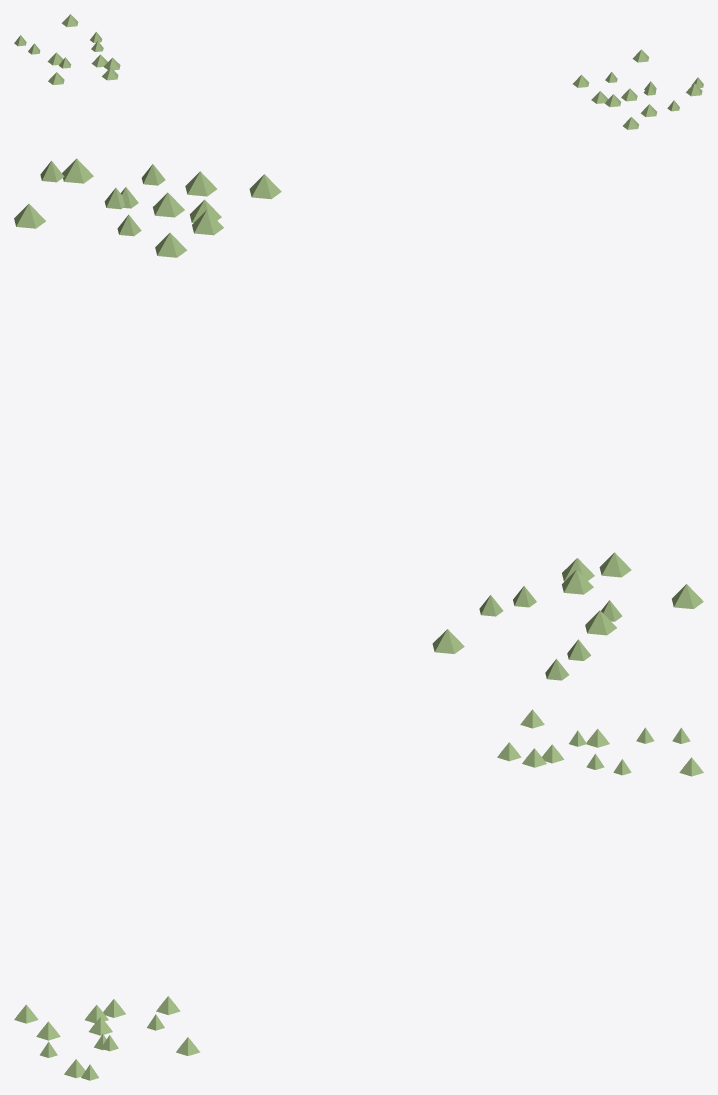
The model's file is cap_cave_mouth_nonsolid_props.fbx.
The picture shows the model from 3 angles, top to bottom: view 1: azimuth 30°, elevation 25°; view 2: azimuth 150°, elevation 25°; view 3: azimuth 270°, elevation 25°; orthographic projection. The views are drawn at different scales.
Parts seen in each view (by area): view 1: chunk_cap_cave_mouth__PropsNonSolid; view 2: chunk_cap_cave_mouth__PropsNonSolid; view 3: chunk_cap_cave_mouth__PropsNonSolid.
Boxes of the visible parts, x1,y1,x2,y2 form: chunk_cap_cave_mouth__PropsNonSolid: [14, 14, 703, 129]; chunk_cap_cave_mouth__PropsNonSolid: [14, 158, 703, 680]; chunk_cap_cave_mouth__PropsNonSolid: [14, 709, 703, 1080].
Size of the model in its own units: 178 by 7.71 by 149.
